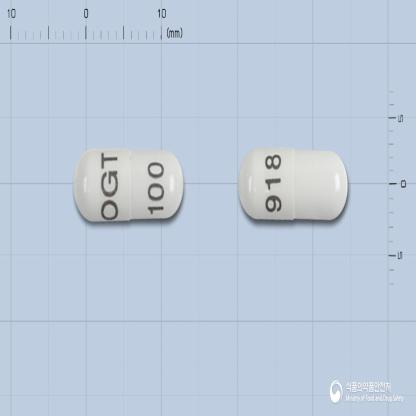pill: (73, 143, 184, 223), (237, 146, 348, 224)
